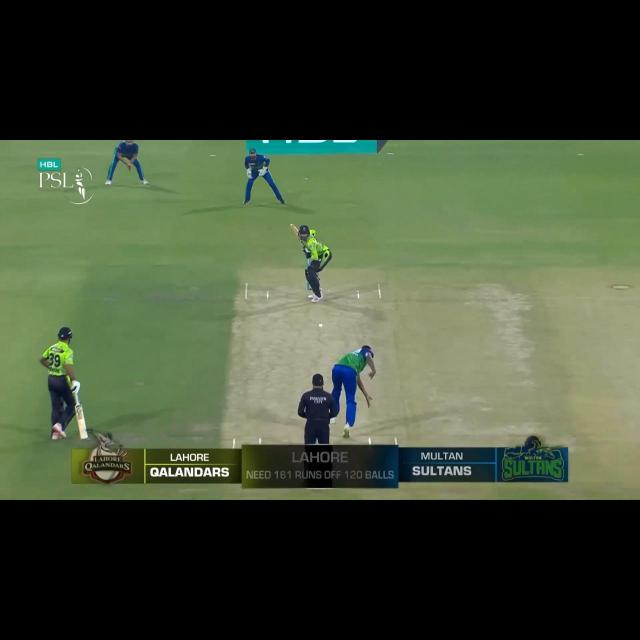bat: (73, 405, 90, 441), (289, 224, 302, 236)
toe: (78, 432, 90, 439), (289, 223, 296, 229)
